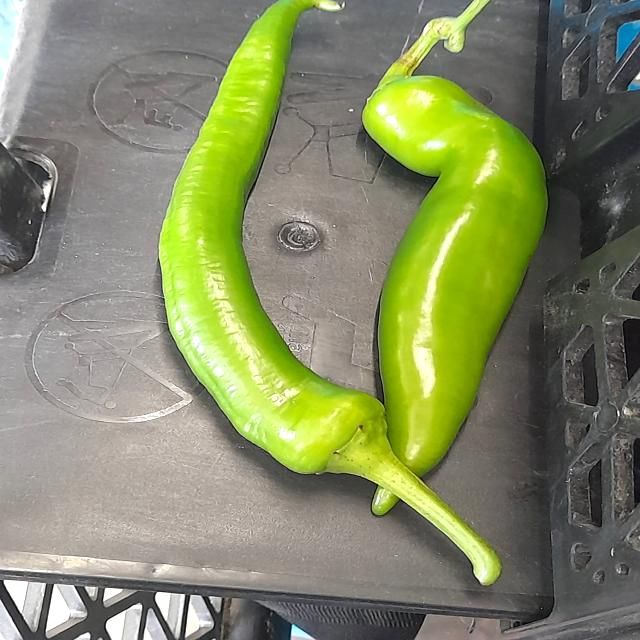green pepper: (141, 0, 493, 586), (330, 35, 555, 516)
